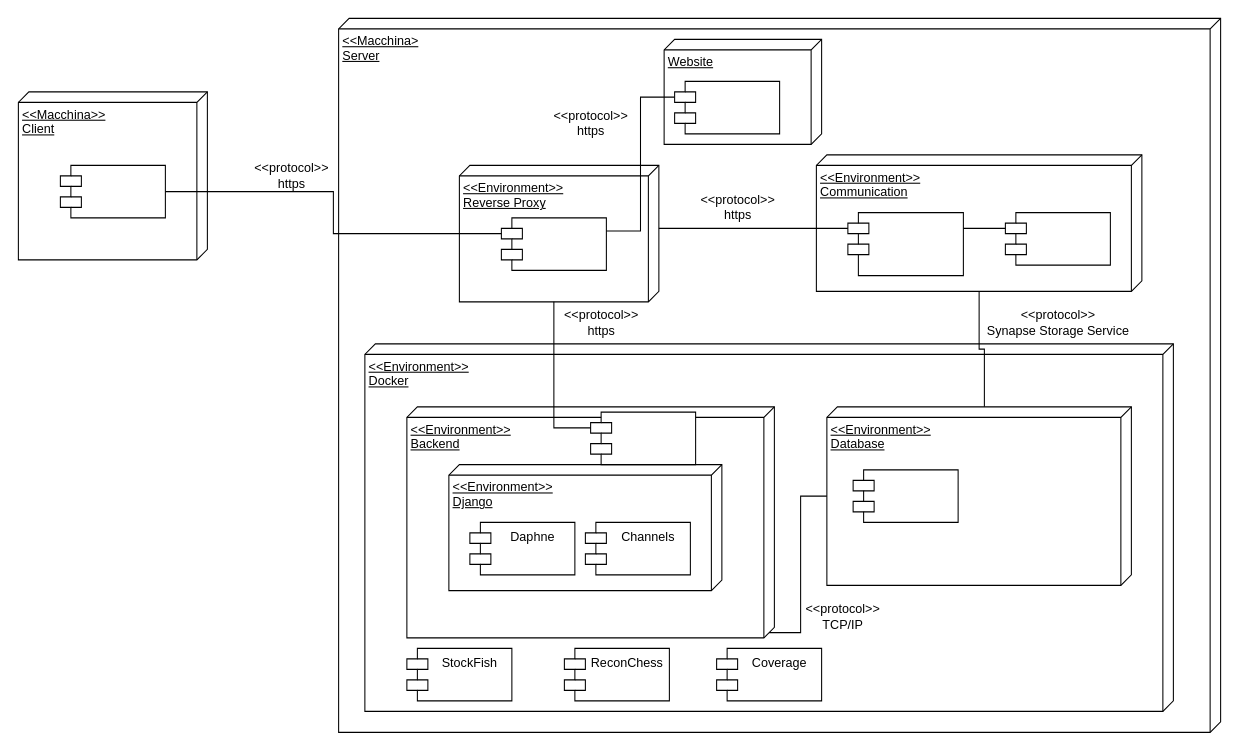
This 1239x751 diagram has some shape labels left out. Each missing label, with the centre of its shape:
<<interface>> Asgiref: (x=643, y=438)
Browser: (x=112, y=191)
Caddy: (x=553, y=243)
Element: (x=905, y=244)
PostgreSQL: (x=905, y=495)
Silverbullets: (x=727, y=107)
Synapse: (x=1057, y=238)
